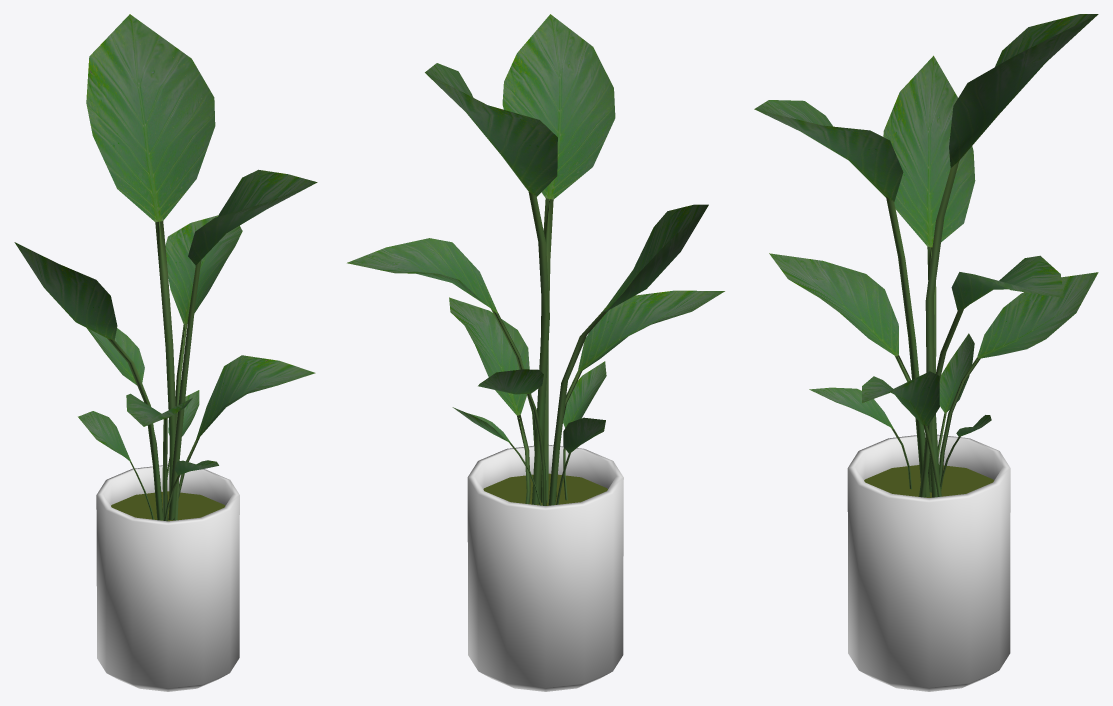
File: potted_plant_mediterranean_med_leaf_low_poly.glb
3 renders of one model, left to right at view 1: azimuth 30°, elevation 25°; view 2: azimuth 150°, elevation 25°; view 3: azimuth 270°, elevation 25°, orthographic. The views are drawn at different scales.
Parts seen in each view (by area): view 1: Cube.002_0, Plane.003_5, Plane.001_3, Plane_1, Plane.010_19, Plane.005_9, Circle_21, Plane.004_7, Plane.006_11, Plane.008_15, Plane.007_13, Plane.009_17; view 2: Cube.002_0, Plane.001_3, Plane.003_5, Plane_1, Plane.010_19, Plane.004_7, Plane.005_9, Circle_21, Plane.006_11, Plane.007_13, Plane.008_15, Plane.009_17; view 3: Cube.002_0, Plane_1, Plane.003_5, Plane.001_3, Plane.004_7, Plane.006_11, Plane.010_19, Plane.005_9, Circle_21, Plane.008_15, Plane.007_13.
Part boxes in pixels (box(x1,y1,x2,y2)): Cube.002_0: box(96, 464, 239, 691); Plane.003_5: box(86, 14, 215, 497); Plane.001_3: box(168, 169, 317, 519); Plane_1: box(14, 242, 162, 520); Plane.010_19: box(165, 215, 242, 520); Plane.005_9: box(178, 355, 315, 497); Circle_21: box(111, 491, 225, 521); Plane.004_7: box(126, 393, 192, 521); Plane.006_11: box(87, 328, 162, 513); Plane.008_15: box(78, 411, 154, 519); Plane.007_13: box(164, 460, 218, 520); Plane.009_17: box(162, 390, 199, 511); Cube.002_0: box(467, 445, 623, 691); Plane.001_3: box(502, 14, 615, 502); Plane.003_5: box(425, 63, 557, 504); Plane_1: box(548, 204, 708, 505); Plane.010_19: box(347, 238, 540, 499); Plane.004_7: box(555, 290, 724, 501); Plane.005_9: box(449, 297, 530, 503); Circle_21: box(483, 473, 607, 505); Plane.006_11: box(478, 369, 546, 505); Plane.007_13: box(563, 361, 606, 500); Plane.008_15: box(556, 417, 605, 504); Plane.009_17: box(452, 407, 541, 505); Cube.002_0: box(847, 434, 1010, 691); Plane_1: box(883, 55, 975, 492); Plane.003_5: box(925, 14, 1098, 497); Plane.001_3: box(754, 100, 929, 497); Plane.004_7: box(769, 253, 925, 438); Plane.006_11: box(939, 272, 1098, 483); Plane.010_19: box(919, 255, 1063, 497); Plane.005_9: box(862, 371, 941, 496); Circle_21: box(864, 465, 993, 497); Plane.008_15: box(938, 333, 974, 457); Plane.007_13: box(809, 387, 911, 489).
Bounding box in the file's own units: 0.6201 × 1.27 × 0.5908.
Materials: 3 (1 with a texture image).
